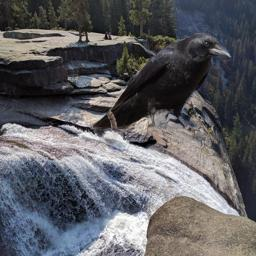Crow: (85, 32, 232, 143)
